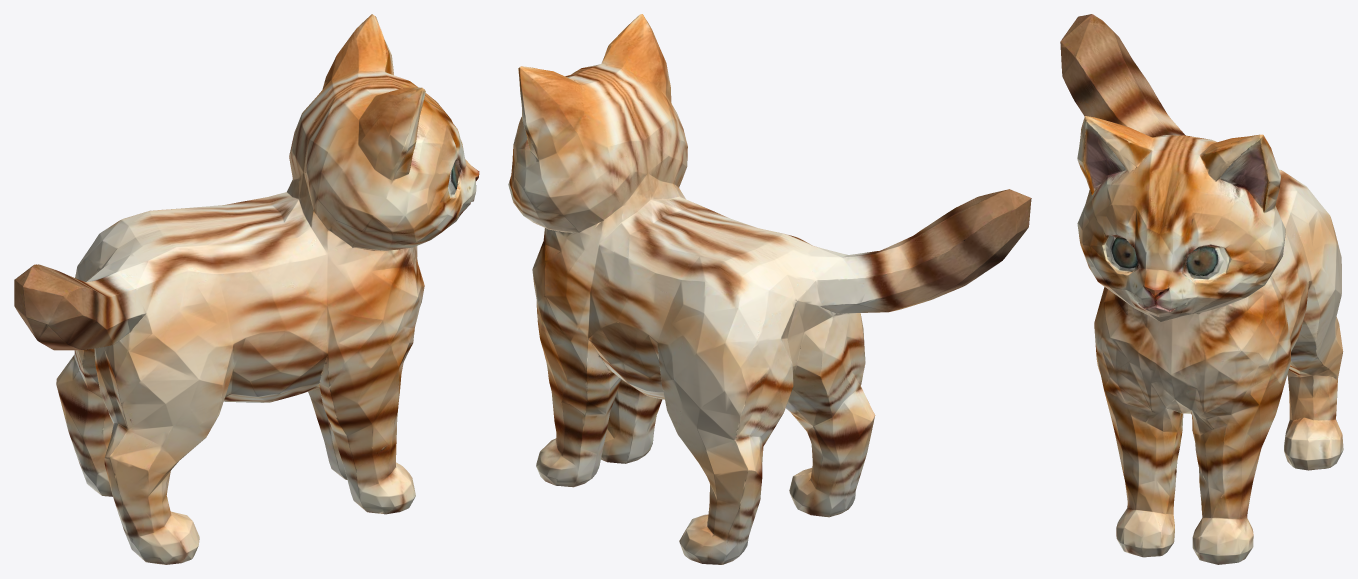
Rendered from HUNCHPAW.glb.
The picture shows the model from 3 angles, left to right: view 1: azimuth 30°, elevation 25°; view 2: azimuth 150°, elevation 25°; view 3: azimuth 270°, elevation 25°; orthographic projection. The views are drawn at different scales.
Parts seen in each view (by area): view 1: fit; view 2: fit; view 3: fit.
Part boxes in pixels (box(x1,y1,x2,y2)): fit: box(14, 14, 479, 564); fit: box(508, 14, 1031, 564); fit: box(1060, 14, 1343, 564).
Bounding box in the file's own units: 1.19 × 0.9998 × 0.5907.
1 material, 1 textured.
